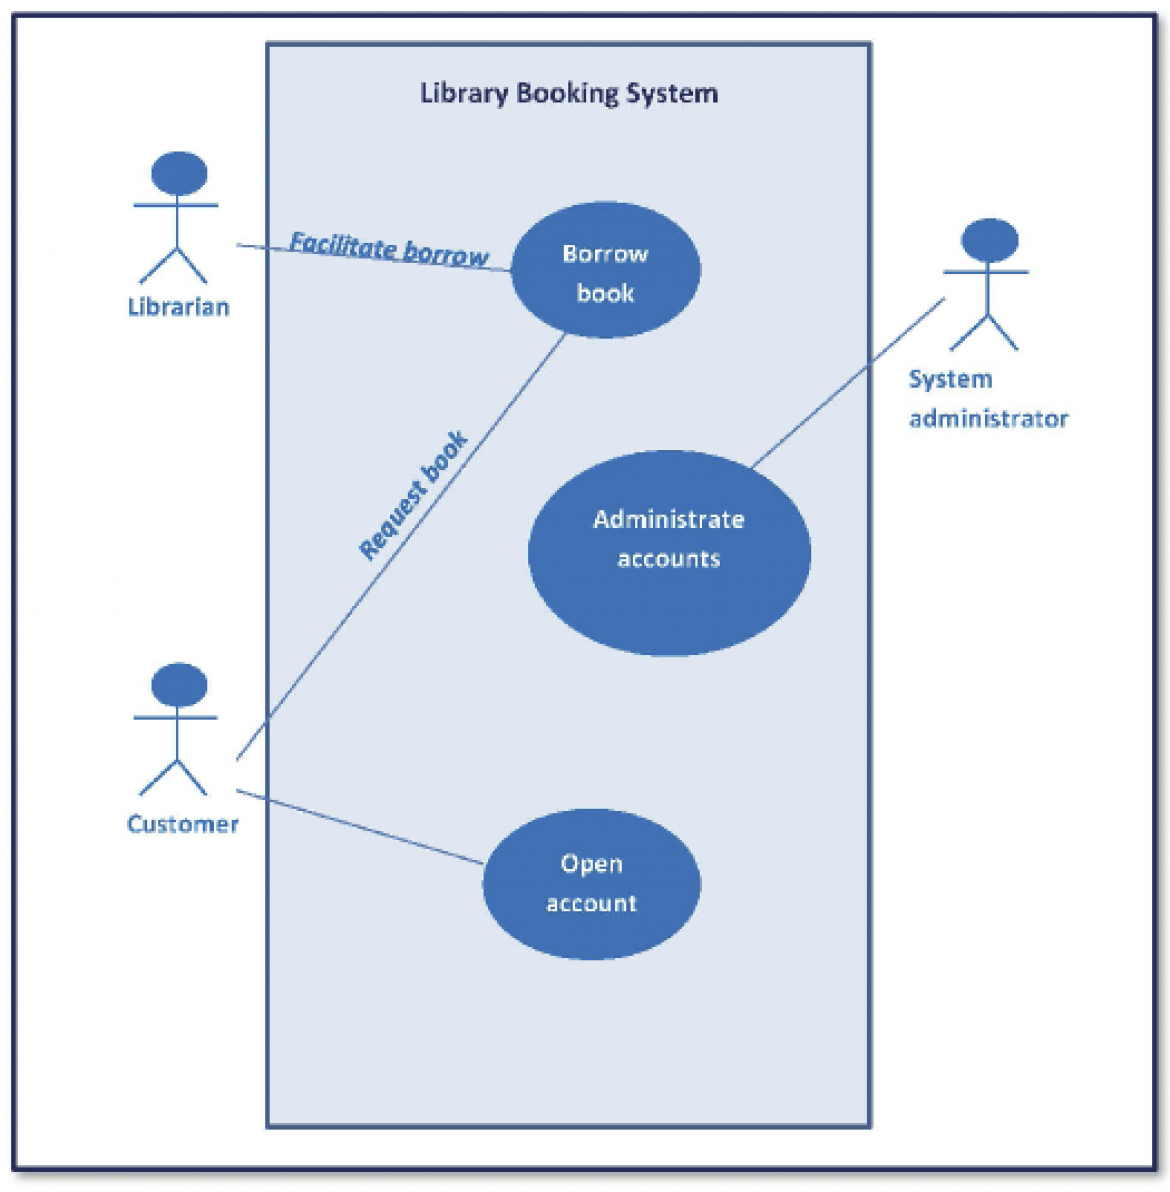actor: (125, 659, 221, 798), (124, 150, 217, 284), (945, 214, 1027, 357)
association: (234, 331, 568, 763), (755, 296, 942, 466), (235, 784, 486, 866), (232, 242, 513, 277)
text: (358, 414, 467, 561), (412, 66, 722, 118), (906, 363, 1072, 441), (590, 498, 744, 575), (284, 227, 489, 266), (541, 239, 652, 310), (545, 852, 643, 925), (112, 798, 239, 845), (118, 293, 239, 322)
use_case: (528, 447, 814, 662), (482, 806, 702, 963), (508, 200, 705, 341)
